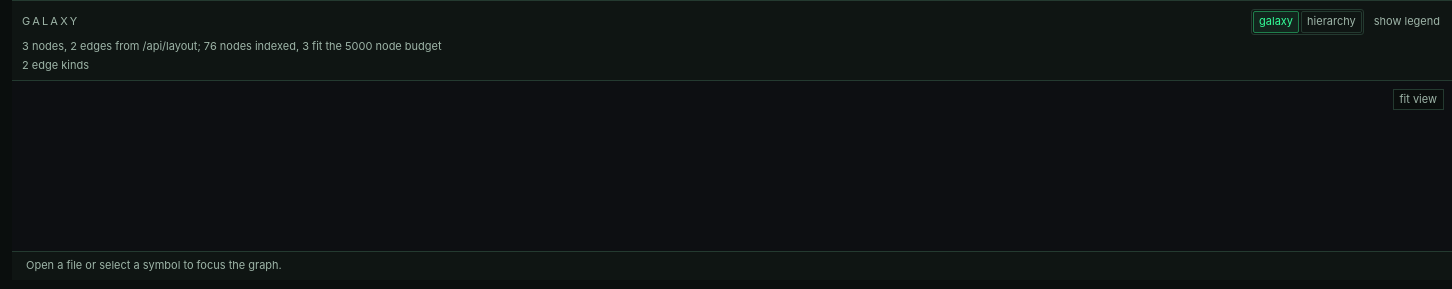
Test case: hierarchy selection regression › keeps hierarchy selected when the selected root changes and its walk is loading
The image size is (1452, 289).
Click the button "hierarchy".
click(1331, 22)  # box [1301,11,1362,33]
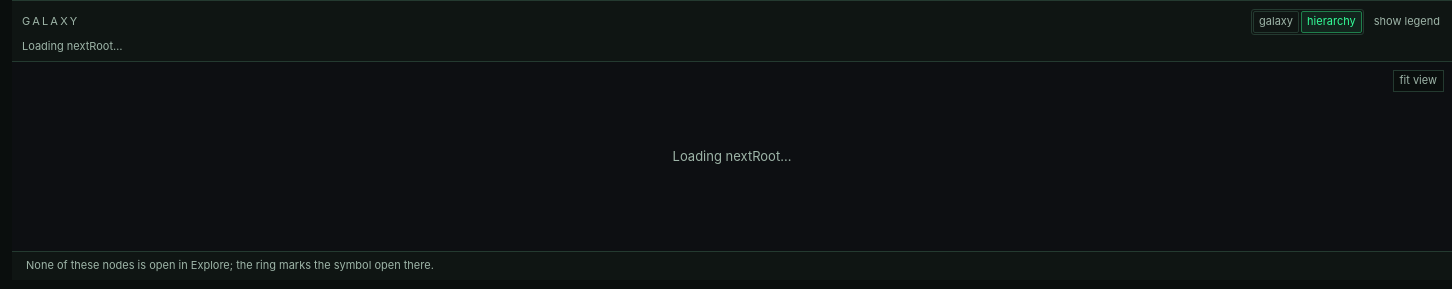
Expected: the text with test id "atlas-galaxy-headline" reads "Loading nextRoot…", [22,39,122,53]
